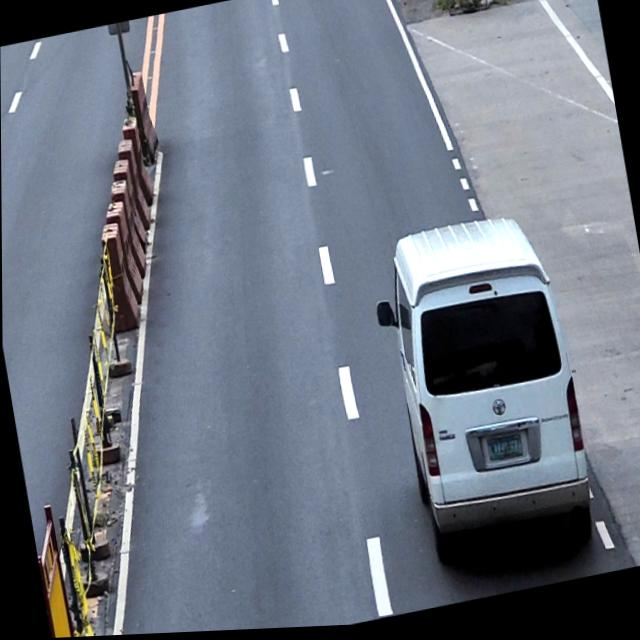Car: (364, 203, 605, 594)
License-Plate: (485, 433, 524, 468)
